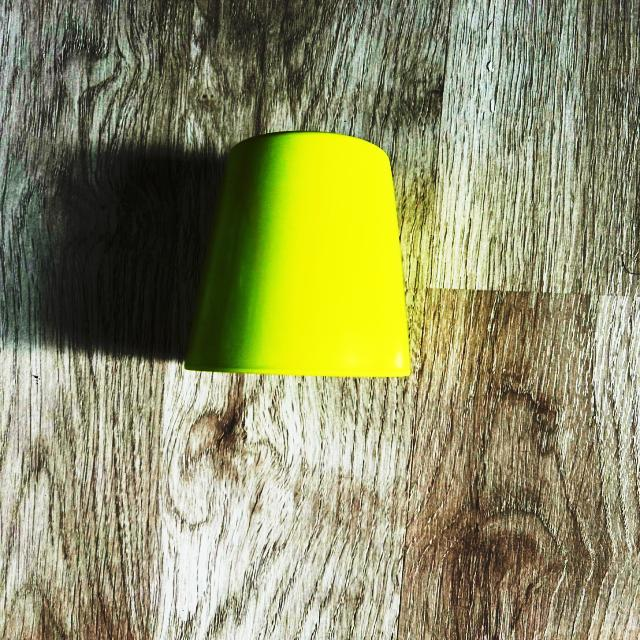WaterGlass: (185, 131, 410, 377)
